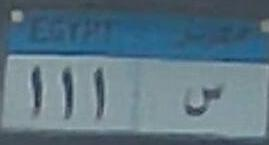1: (23, 63, 49, 123), (56, 63, 78, 127), (89, 62, 112, 123)
seen: (175, 77, 225, 124)
